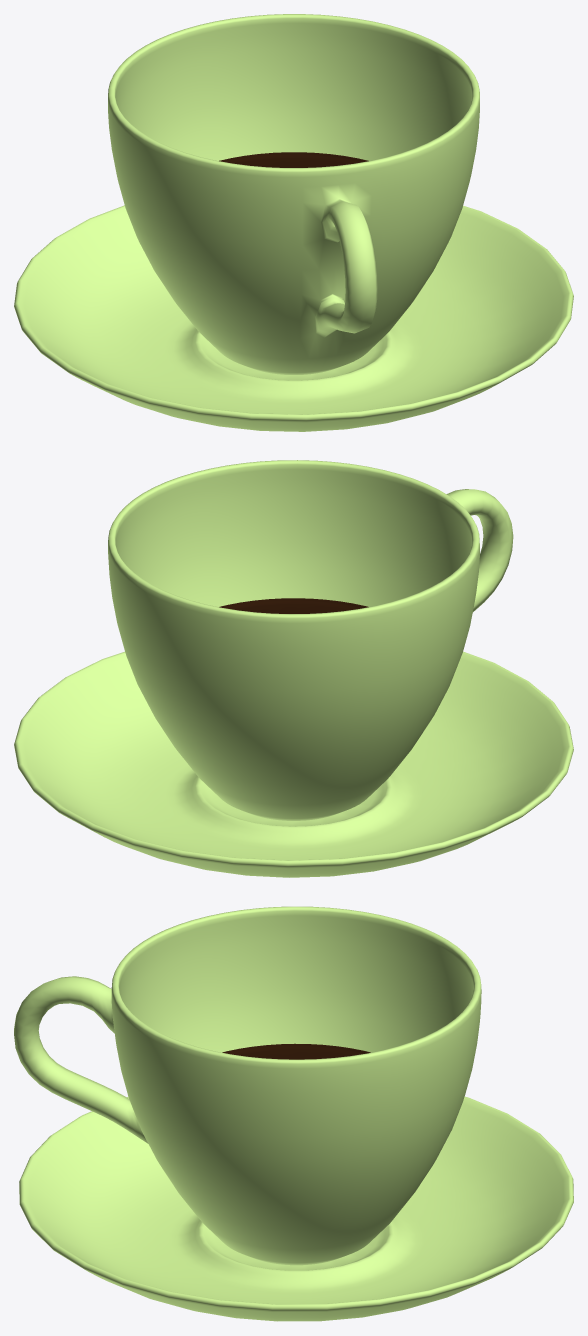
File: cup.glb
3 renders of one model, top to bottom at view 1: azimuth 30°, elevation 25°; view 2: azimuth 150°, elevation 25°; view 3: azimuth 270°, elevation 25°, orthographic.
Visible parts, largest first — view 1: taza, plato, liquido; view 2: taza, plato, liquido; view 3: taza, plato, liquido.
Part boxes in pixels (x1=…): taza: x1=108, y1=14, x2=479, y2=374; plato: x1=14, y1=205, x2=573, y2=431; liquido: x1=219, y1=152, x2=368, y2=167; taza: x1=108, y1=460, x2=513, y2=820; plato: x1=14, y1=651, x2=573, y2=877; liquido: x1=219, y1=598, x2=368, y2=613; taza: x1=14, y1=906, x2=481, y2=1265; plato: x1=19, y1=1096, x2=573, y2=1321; liquido: x1=222, y1=1043, x2=370, y2=1059.
Size of the model in its own units: 0.1861 by 0.0971 by 0.1879.
